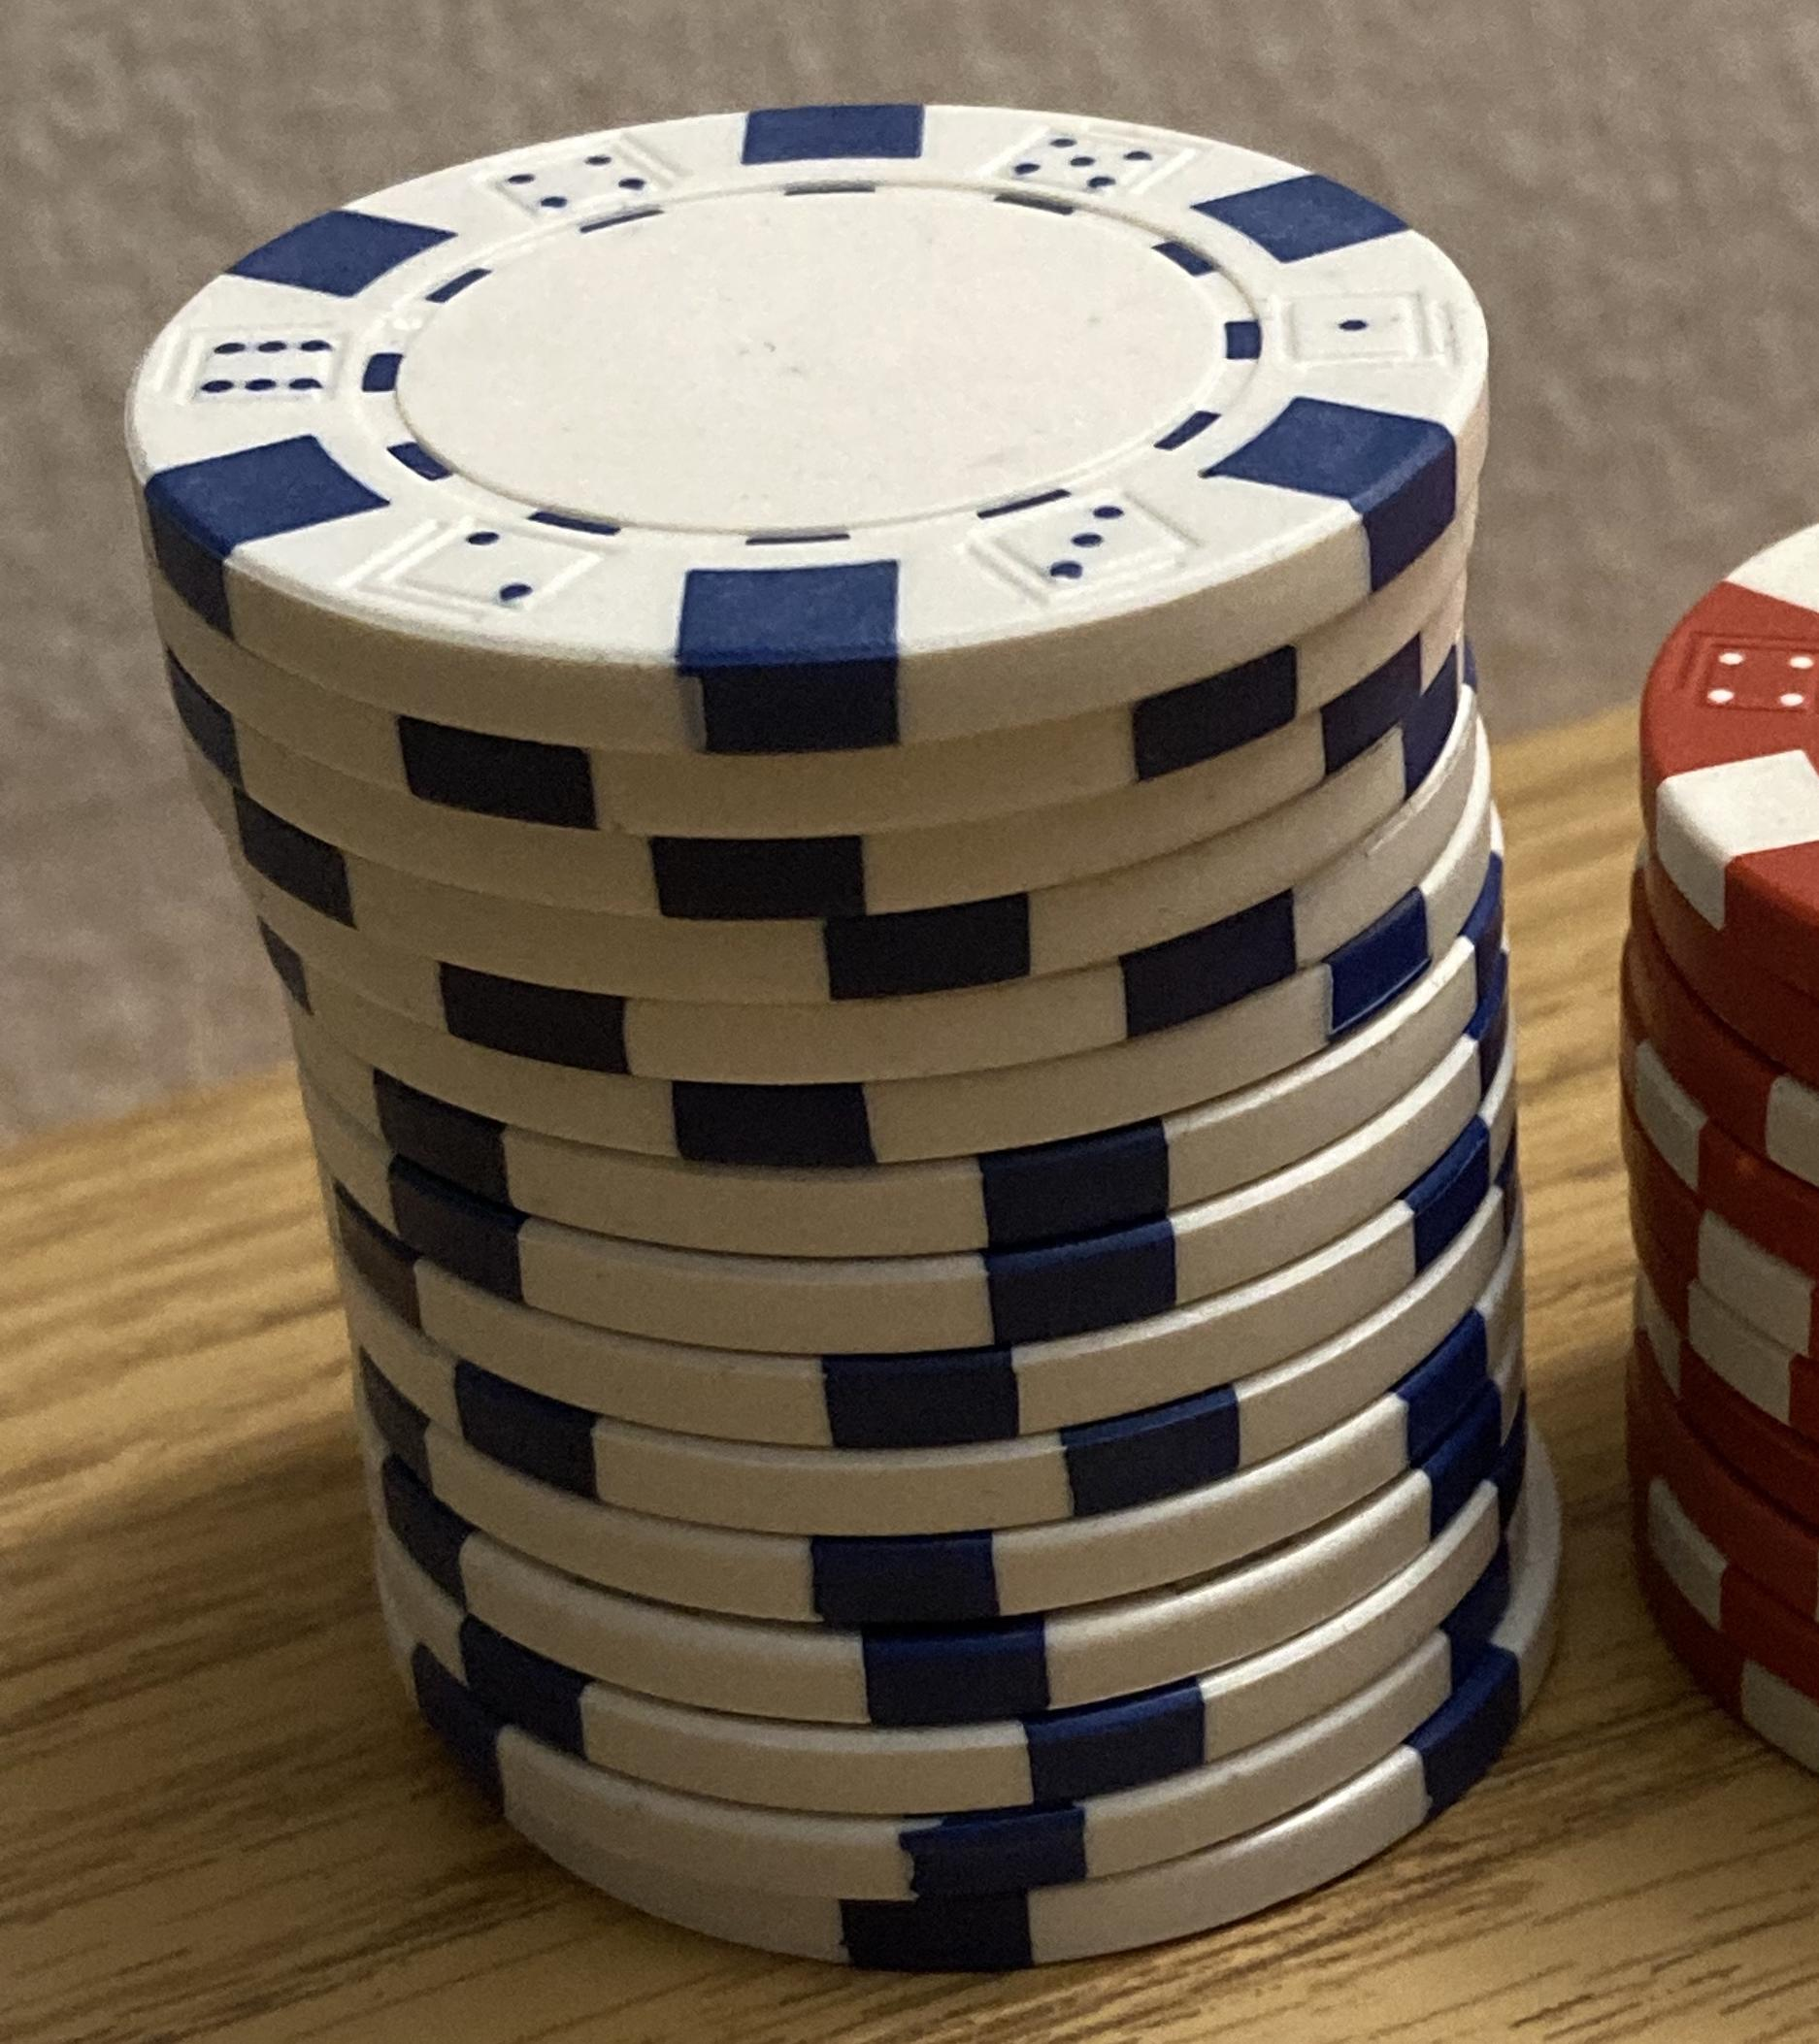Chip: (2, 2, 1819, 2044)
